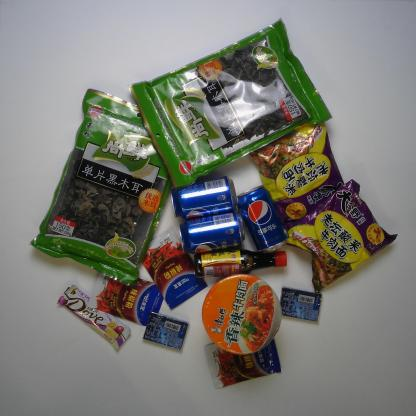Chocolate: (54, 283, 133, 354)
Dried Food: (126, 14, 336, 195), (23, 85, 172, 290)
Drink: (234, 184, 290, 257), (167, 174, 241, 220), (177, 210, 248, 254)
Gum: (138, 310, 191, 353), (273, 285, 327, 323)
Instant Noodles: (281, 176, 401, 298), (247, 118, 348, 233), (199, 270, 284, 357)
Seasoner: (139, 224, 211, 312), (83, 266, 169, 334), (201, 333, 288, 391), (186, 246, 291, 279)
